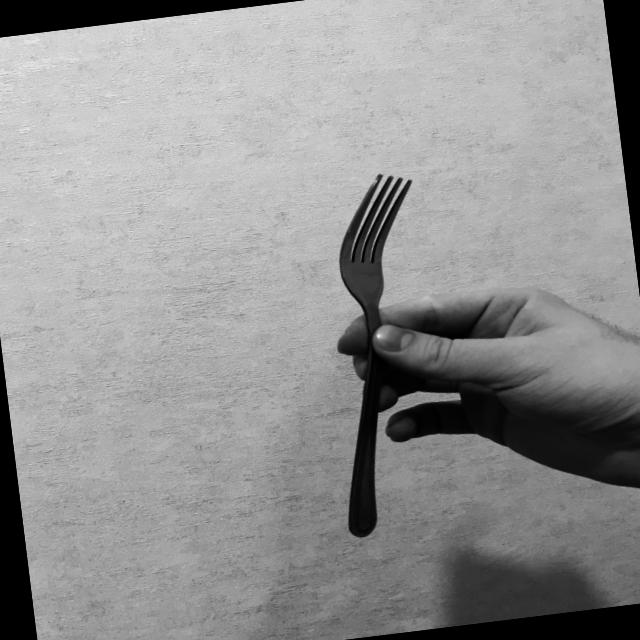fork: (301, 167, 453, 542)
